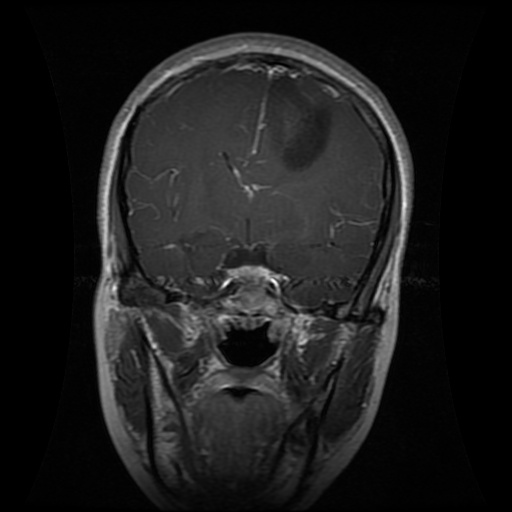glioma: (266, 70, 334, 174)
